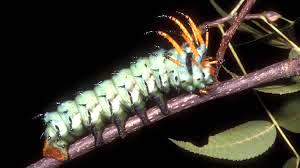Caterpillar: (37, 37, 219, 151)
